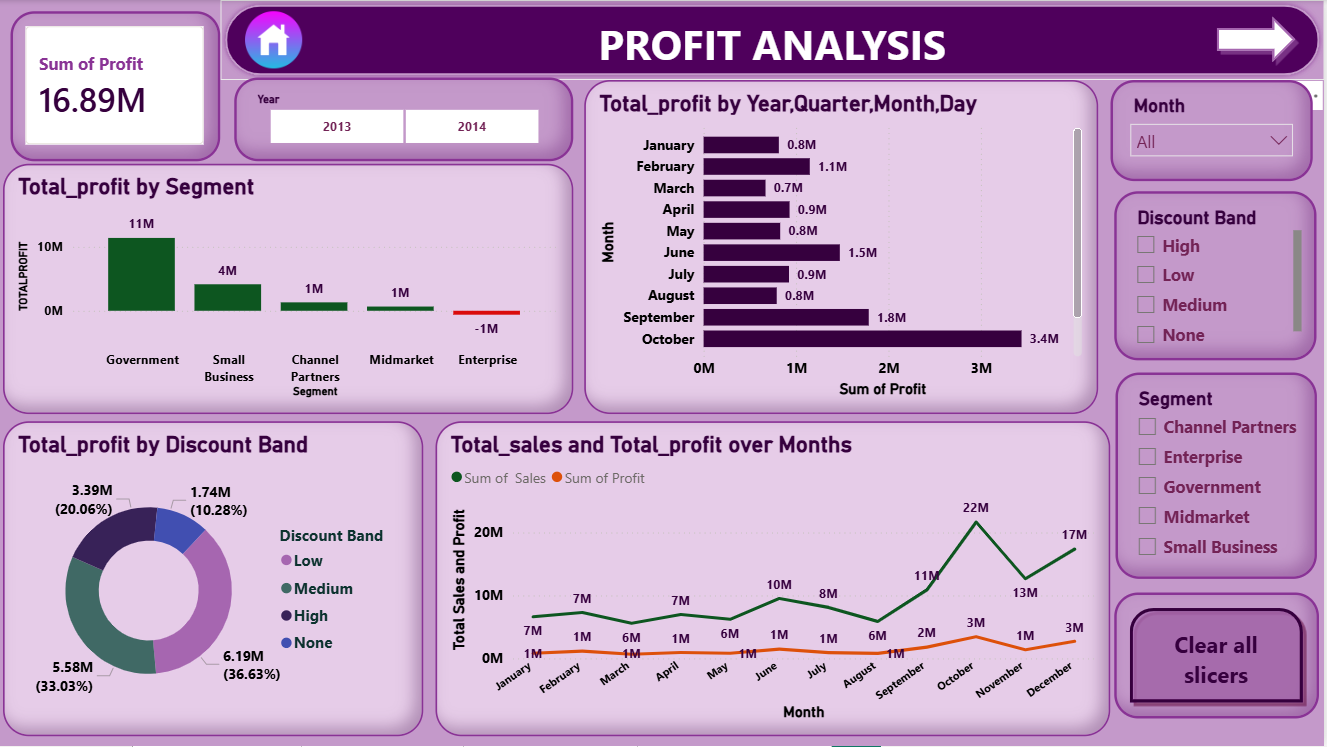

What the dashboard file says about the page in this screenshot:
{"tool":"powerbi","page":{"name":"PROFIT_ANALYSIS","canvas":[1280,720],"ordinal":2},"visuals":[{"type":"columnChart","title":"Total_profit by Segment","fields":{"Category":["financials.Segment"],"Y":["financials.TOTALPROFIT"]},"box":[4.8,158,550.1,241.3],"z":0},{"type":"donutChart","title":"Total_profit by Discount Band","fields":{"Category":["financials.Discount Band"],"Y":["financials.TOTALPROFIT"]},"box":[4.8,406.6,405.4,304],"z":1000},{"type":"lineChart","title":"Total_sales and Total_profit over Months","fields":{"Category":["financials.Date.Variation.Date Hierarchy.Month"],"Y":["Sum(financials. Sales)","Sum(financials.Profit)"]},"box":[422.3,406.6,651.5,304],"z":2000},{"type":"shape","box":[214.7,0,1065.3,77.2],"z":3000},{"type":"slicer","fields":{"Values":["financials.Date.Variation.Date Hierarchy.Year"]},"box":[228,74.8,326.9,80.8],"z":4000},{"type":"slicer","fields":{"Values":["financials.Segment"]},"box":[1078.6,359.5,194.2,199.1],"z":5000},{"type":"slicer","fields":{"Values":["financials.Date.Variation.Date Hierarchy.Month"]},"box":[1073.7,77.2,195.4,97.7],"z":6000},{"type":"actionButton","box":[1077.4,571.9,197.9,121.9],"z":7000},{"type":"slicer","fields":{"Values":["financials.Discount Band"]},"box":[1077.4,184.6,195.4,162.9],"z":8000},{"type":"shape","box":[1171.5,10.9,85.7,54.3],"z":9000},{"type":"clusteredBarChart","title":"Total_profit by Year,Quarter,Month,Day","fields":{"Y":["Sum(financials.Profit)"],"Category":["financials.Date.Variation.Date Hierarchy.Year","financials.Date.Variation.Date Hierarchy.Quarter","financials.Date.Variation.Date Hierarchy.Month","financials.Date.Variation.Date Hierarchy.Day"]},"box":[565.8,77.2,495.8,322.1],"z":10000},{"type":"cardVisual","fields":{"Data":["Sum(financials.Profit)"]},"box":[12.1,10.9,202.7,144.8],"z":11000},{"type":"image","box":[228,10.9,76,55.5],"z":12000}]}

Visuals, with their boxes in screenshot pixels (x1, y1, x2, y2), scaled from the page's 1280x720 canvas onto the 1327x747 screenshot:
"Total_profit by Segment" columnChart: bbox=(5, 164, 575, 414)
"Total_profit by Discount Band" donutChart: bbox=(5, 422, 425, 737)
"Total_sales and Total_profit over Months" lineChart: bbox=(438, 422, 1113, 737)
shape: bbox=(223, 0, 1326, 80)
slicer - financials.Date.Variation.Date Hierarchy.Year: bbox=(236, 78, 575, 161)
slicer - financials.Segment: bbox=(1118, 373, 1320, 580)
slicer - financials.Date.Variation.Date Hierarchy.Month: bbox=(1113, 80, 1316, 181)
actionButton: bbox=(1117, 593, 1322, 720)
slicer - financials.Discount Band: bbox=(1117, 192, 1320, 361)
shape: bbox=(1215, 11, 1303, 68)
"Total_profit by Year,Quarter,Month,Day" clusteredBarChart: bbox=(587, 80, 1101, 414)
cardVisual - Sum(financials.Profit): bbox=(13, 11, 223, 162)
image: bbox=(236, 11, 315, 69)
